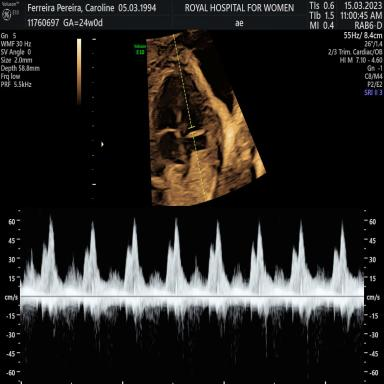Ultrasound-Waves: (26, 208, 361, 384)
